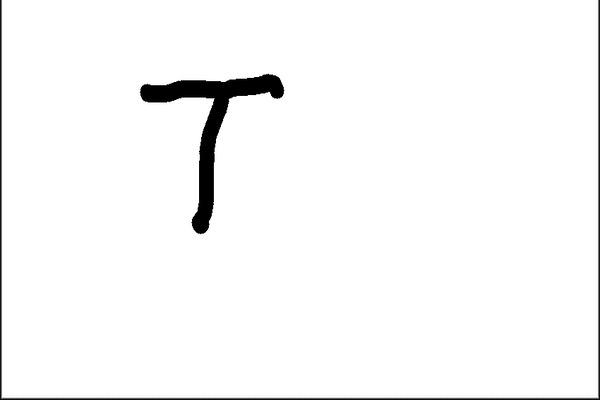T: (130, 70, 312, 237)
